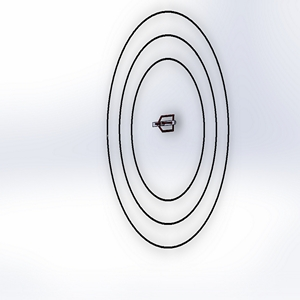circle: (98, 5, 239, 255)
submarine: (150, 106, 182, 146)
